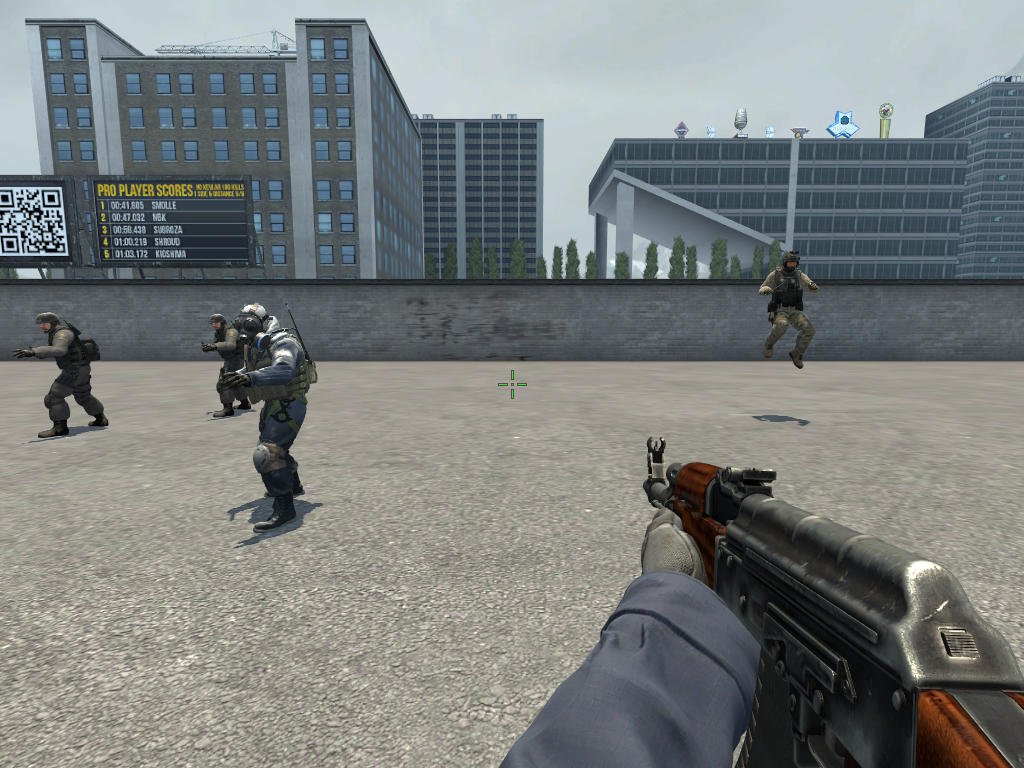ct head: (232, 300, 278, 351), (34, 311, 60, 337), (780, 245, 803, 274), (210, 311, 227, 333)
